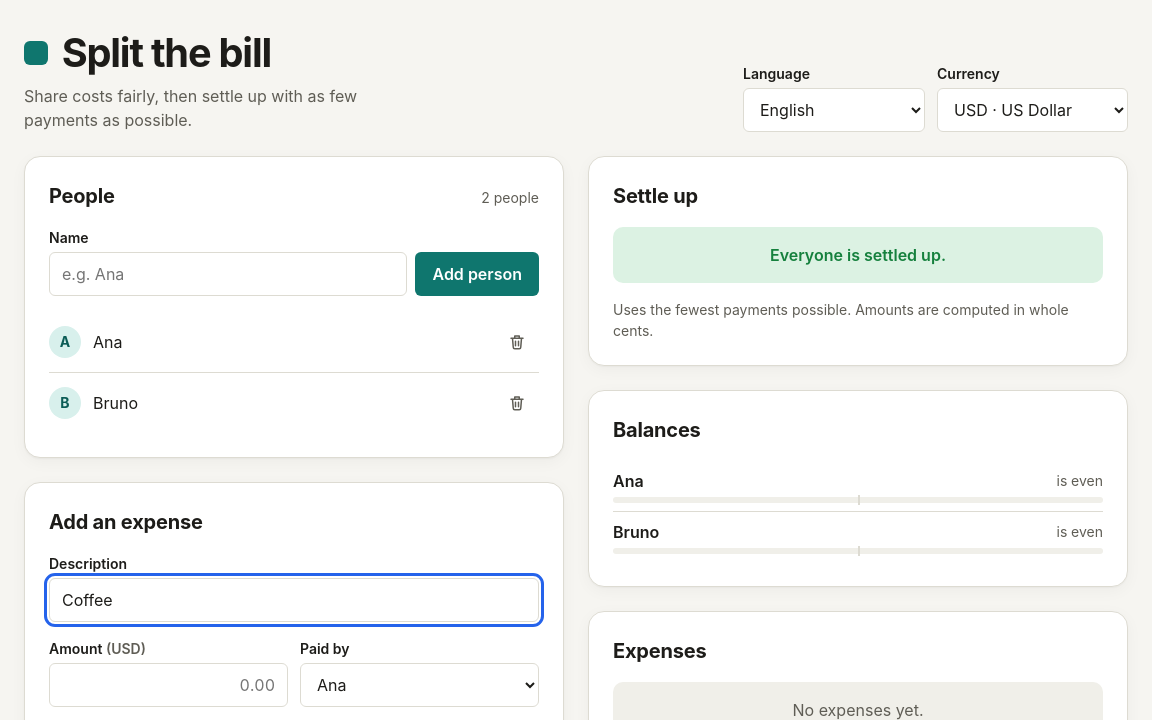
Scenario: App › deletes expenses and protects people who are part of one
Earlier steps of the test are not shown.
Type "4" into the field labelled "Amount (USD)" at (168, 685), box [49, 663, 288, 707]
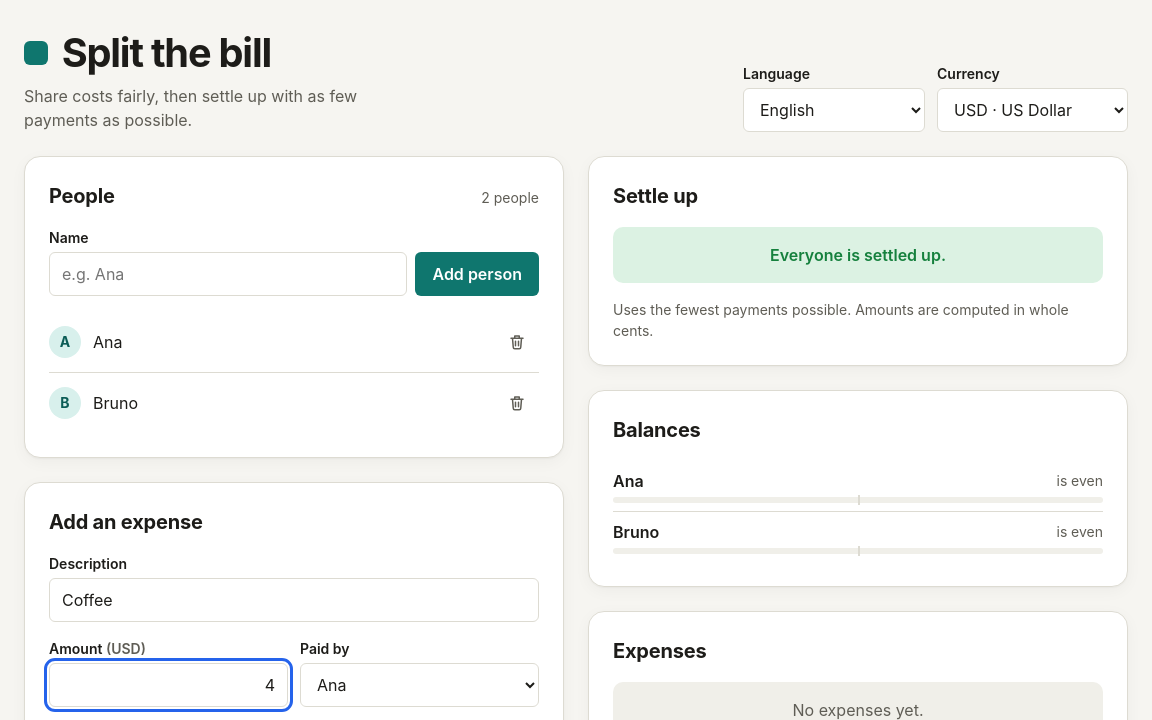
Select "Ana" in the dropdown labelled "Paid by" at (420, 685), box [300, 663, 539, 707]
(page scrolled)
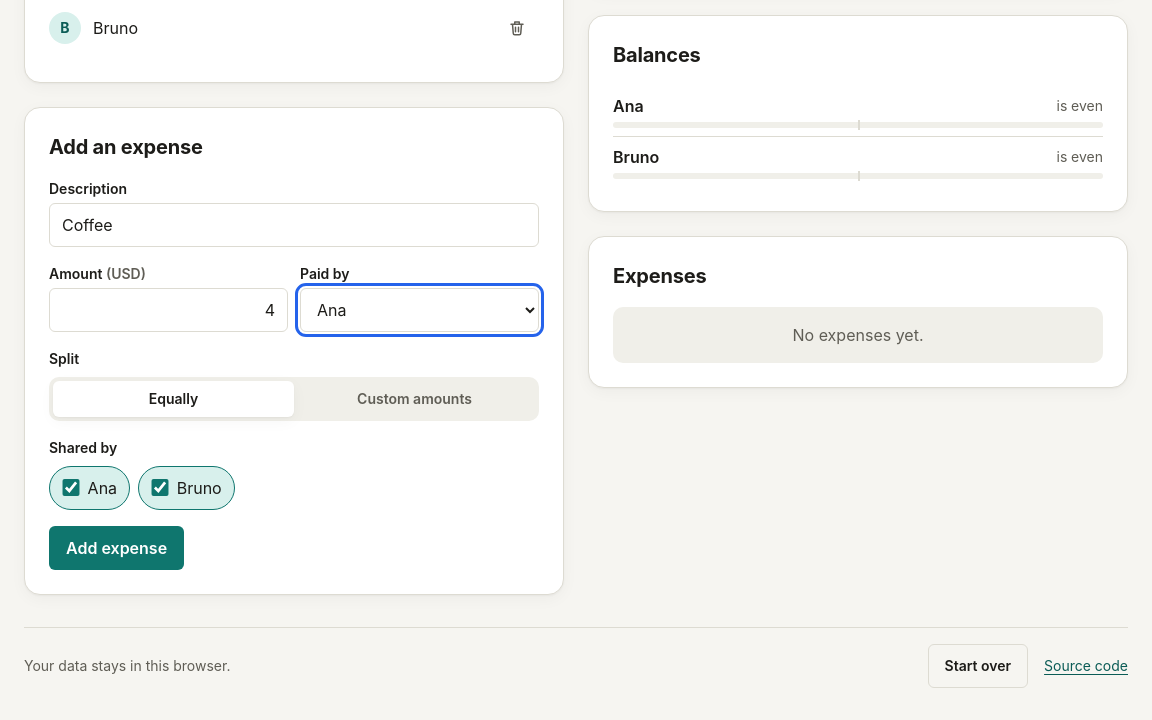
Click the button "Add expense" at (117, 548), box [49, 526, 184, 570]
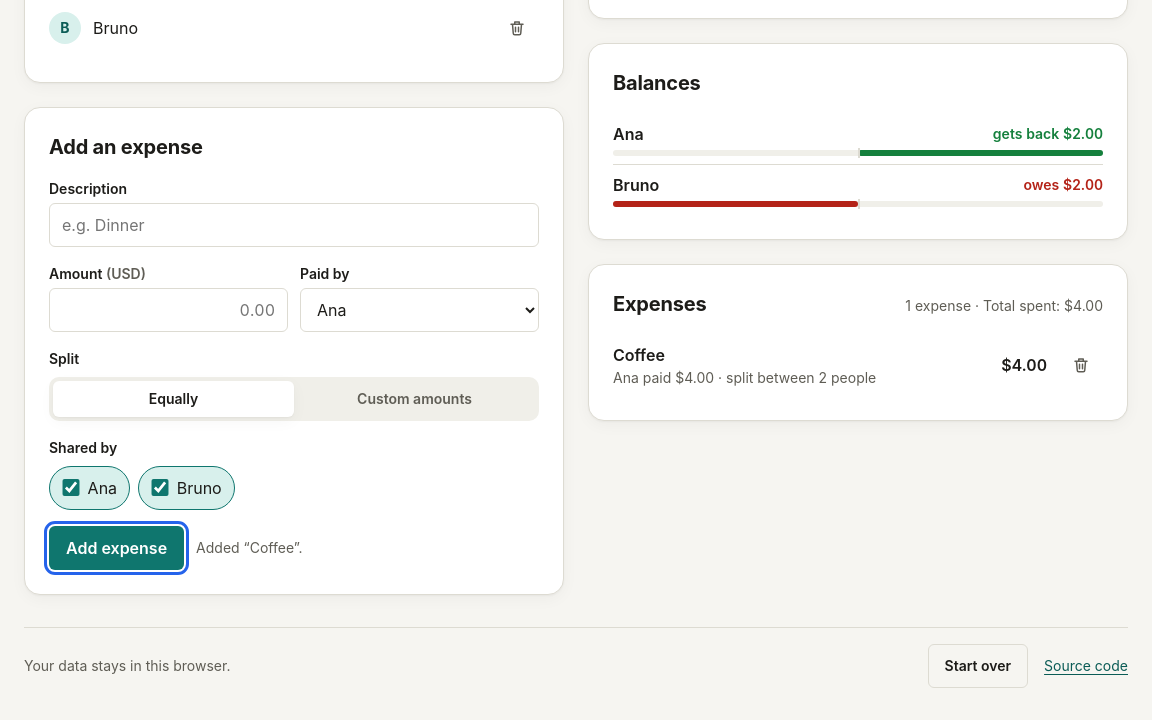
Click the button named "Remove Bruno" at (517, 28), box [495, 6, 539, 50]
(page scrolled)
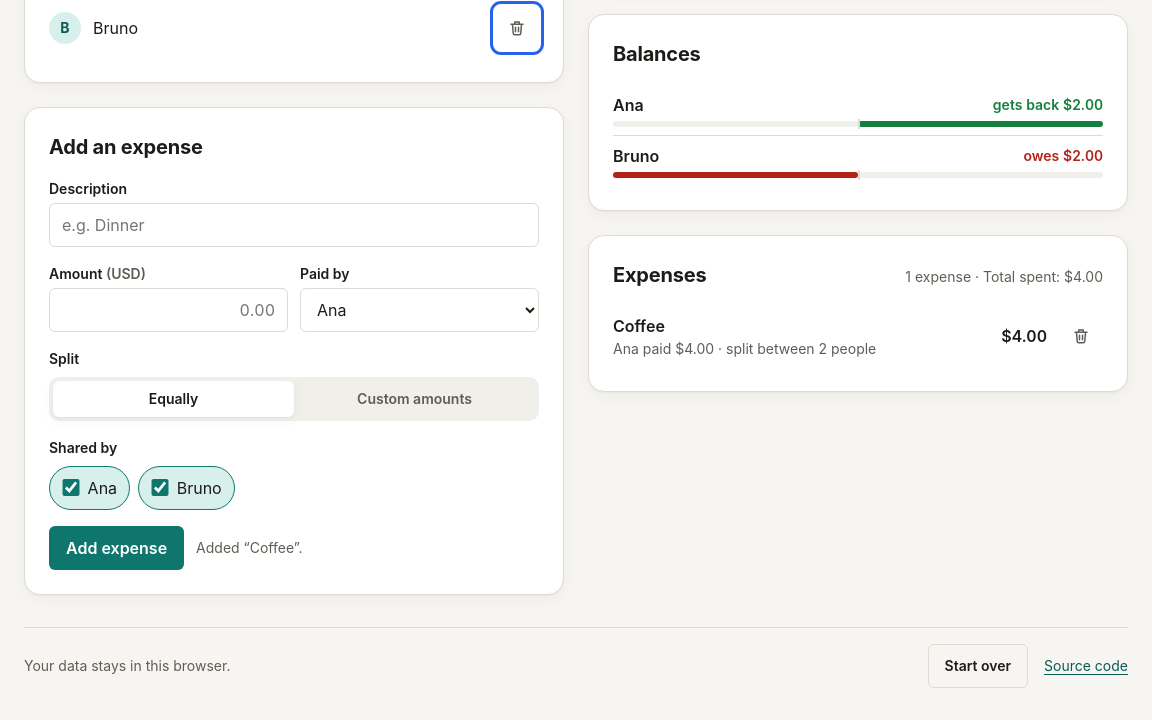
Click the button named "Delete “Coffee”" at (1081, 336), box [1059, 314, 1103, 358]
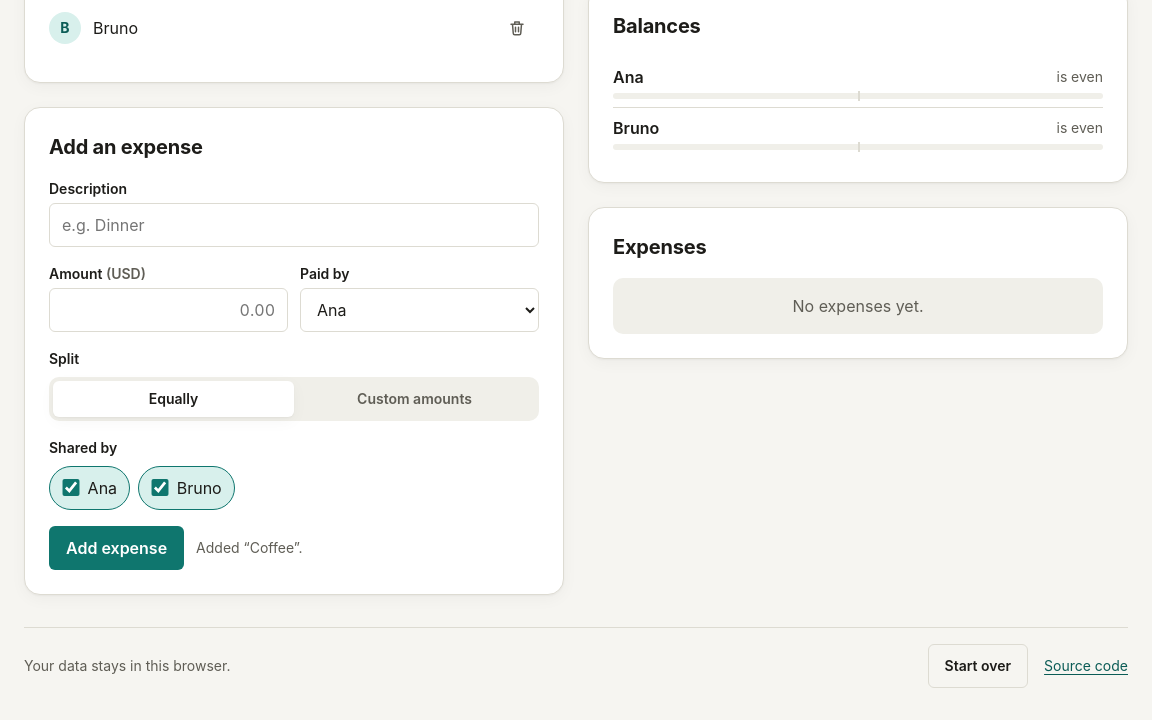
Expected: the text "No expenses yet." is shown, [613, 278, 1103, 334]
Click the button named "Remove Bruno" at (517, 28), box [495, 6, 539, 50]
(page scrolled)
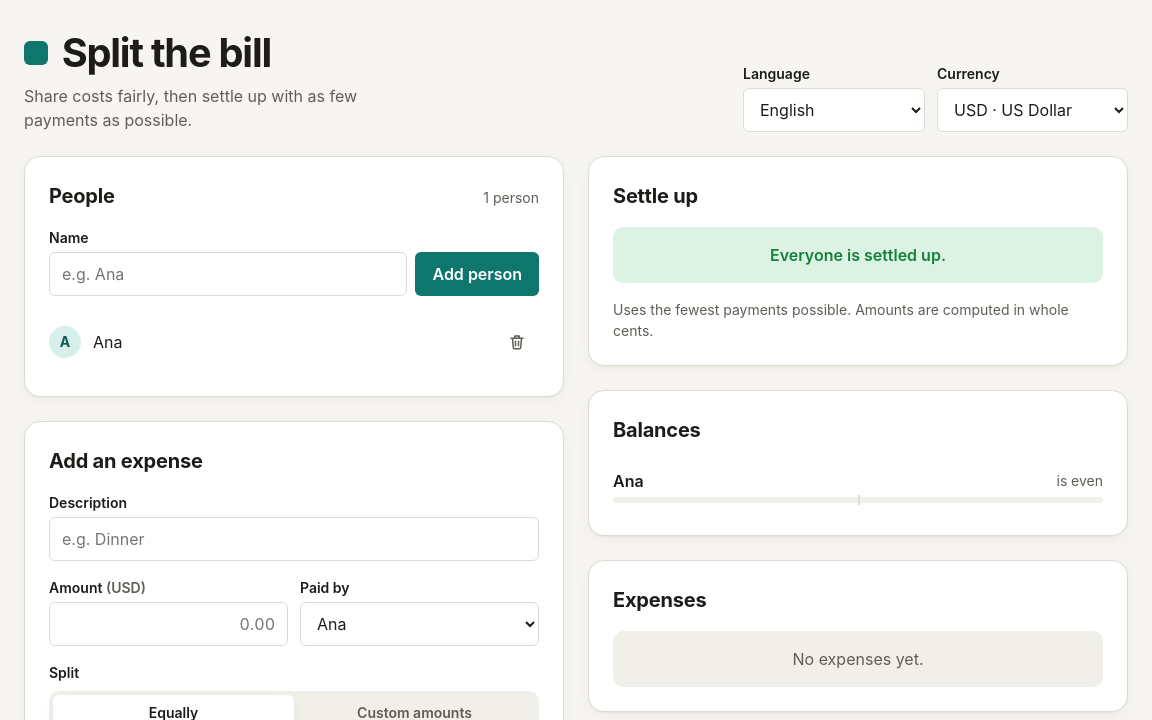
Expected: the text "1 person" is shown, [483, 187, 539, 208]
